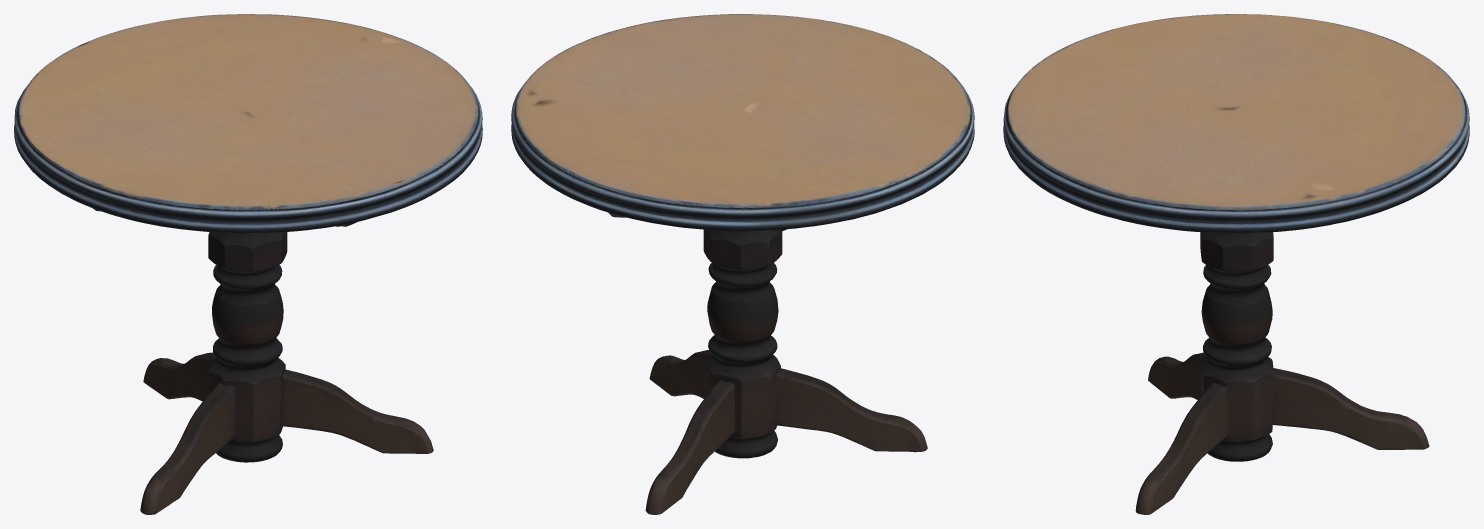
File: model-14-round-table.glb
3 renders of one model, left to right at view 1: azimuth 30°, elevation 25°; view 2: azimuth 150°, elevation 25°; view 3: azimuth 270°, elevation 25°, orthographic.
Parts seen in each view (by area): view 1: node_0; view 2: node_0; view 3: node_0.
Boxes of the visible parts, x1=… form: node_0: x1=14, y1=14, x2=482, y2=514; node_0: x1=511, y1=14, x2=974, y2=514; node_0: x1=1003, y1=14, x2=1469, y2=514.
Bounding box in the file's own units: 0.942 × 0.7592 × 0.9415.
Materials: 1 (1 with a texture image).
